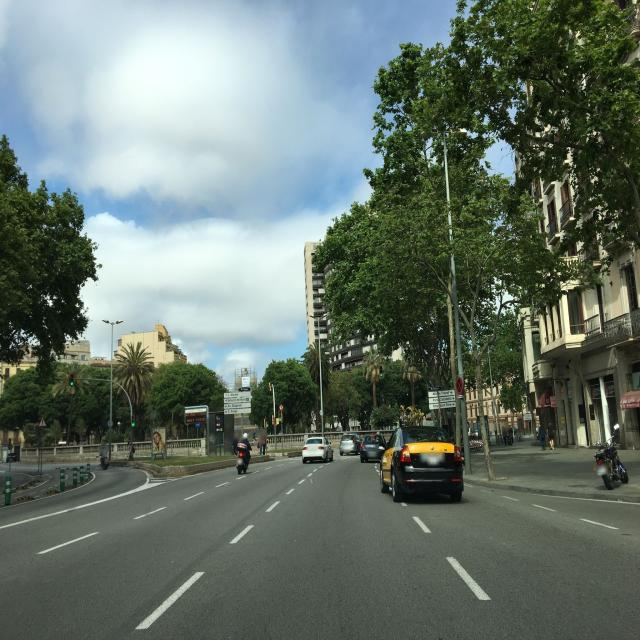bike: (593, 424, 628, 490), (236, 443, 252, 474), (99, 451, 111, 472)
car: (379, 424, 465, 503), (302, 436, 334, 463), (359, 432, 386, 463), (339, 433, 363, 455)
